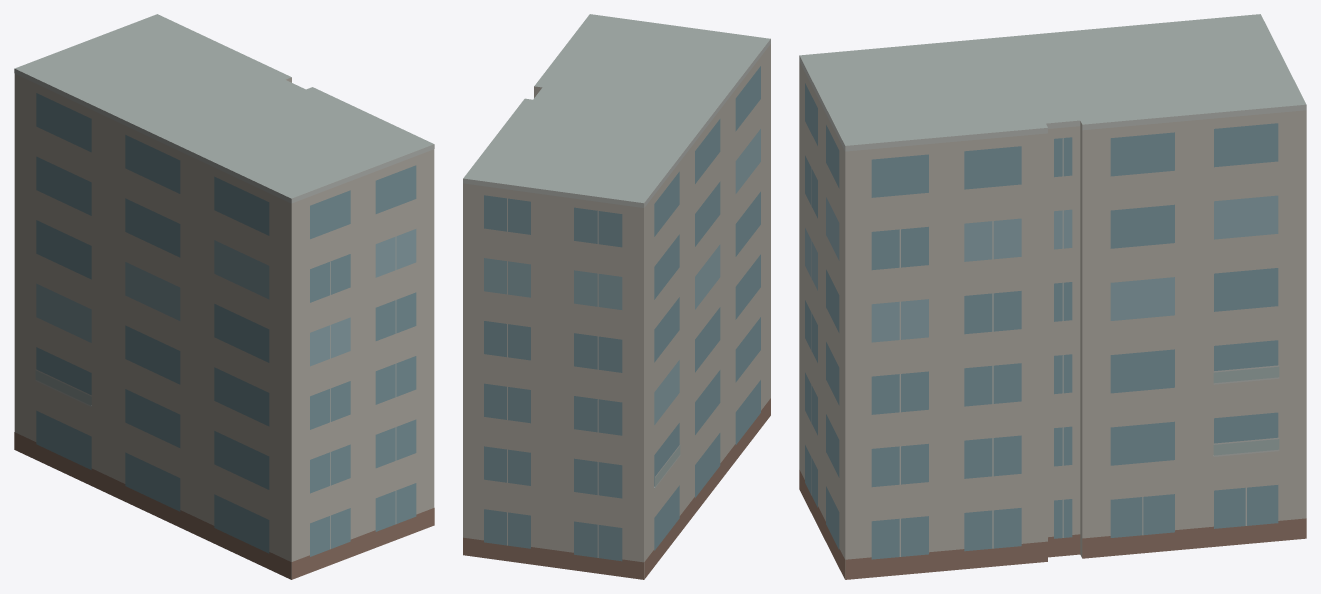
Rendered from survey-upis-32627966.glb.
3 renders of one model, left to right at view 1: azimuth 30°, elevation 25°; view 2: azimuth 150°, elevation 25°; view 3: azimuth 270°, elevation 25°, orthographic. The views are drawn at different scales.
Parts seen in each view (by area): view 1: survey-upis-32627966.tmp; view 2: survey-upis-32627966.tmp; view 3: survey-upis-32627966.tmp.
Part boxes in pixels (x1=…): survey-upis-32627966.tmp: x1=14, y1=14, x2=434, y2=579; survey-upis-32627966.tmp: x1=463, y1=14, x2=770, y2=579; survey-upis-32627966.tmp: x1=799, y1=14, x2=1306, y2=579.
Size of the model in its own units: 12.33 by 18.9 by 20.03.
